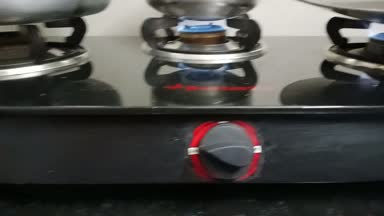flame_gas_on: (152, 10, 266, 180)
